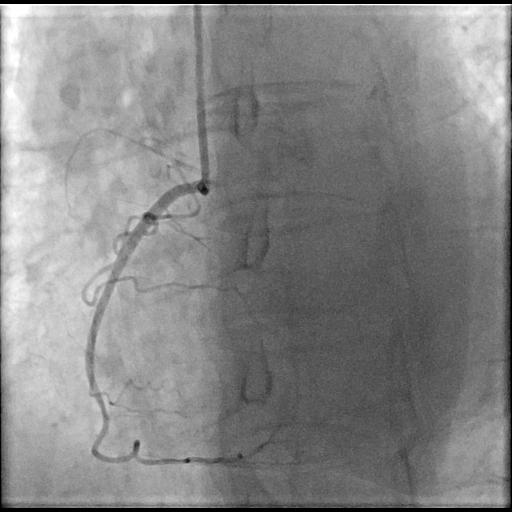RCA: (85, 180, 223, 465)
catherter: (194, 6, 209, 195)
